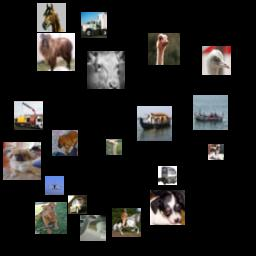airplane: (45, 176, 64, 195)
automobile: (68, 195, 87, 214)
bird: (148, 33, 180, 65), (202, 46, 231, 75), (80, 215, 106, 241), (106, 139, 122, 155)
deer: (37, 33, 75, 71), (87, 51, 125, 89)
dog: (3, 142, 41, 180), (150, 190, 185, 225), (35, 202, 67, 234), (52, 130, 78, 156), (208, 144, 224, 160)
ship: (193, 95, 228, 130), (137, 106, 172, 141)
truck: (14, 101, 43, 130), (81, 12, 107, 38), (158, 166, 177, 185)
